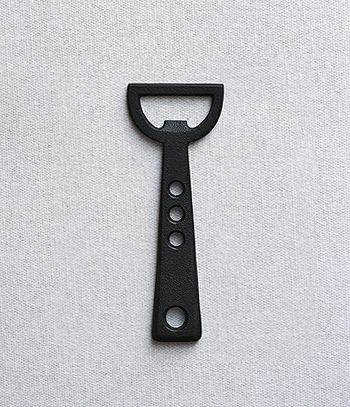bottleopener: (127, 83, 226, 342)
